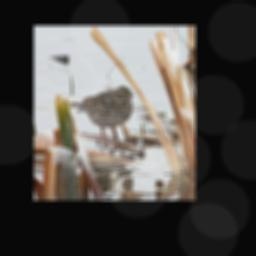Sparrow: (67, 84, 135, 147)
